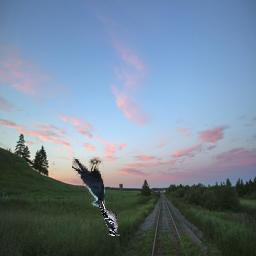Crow: (73, 157, 106, 207)
Woodpecker: (98, 198, 120, 236)
